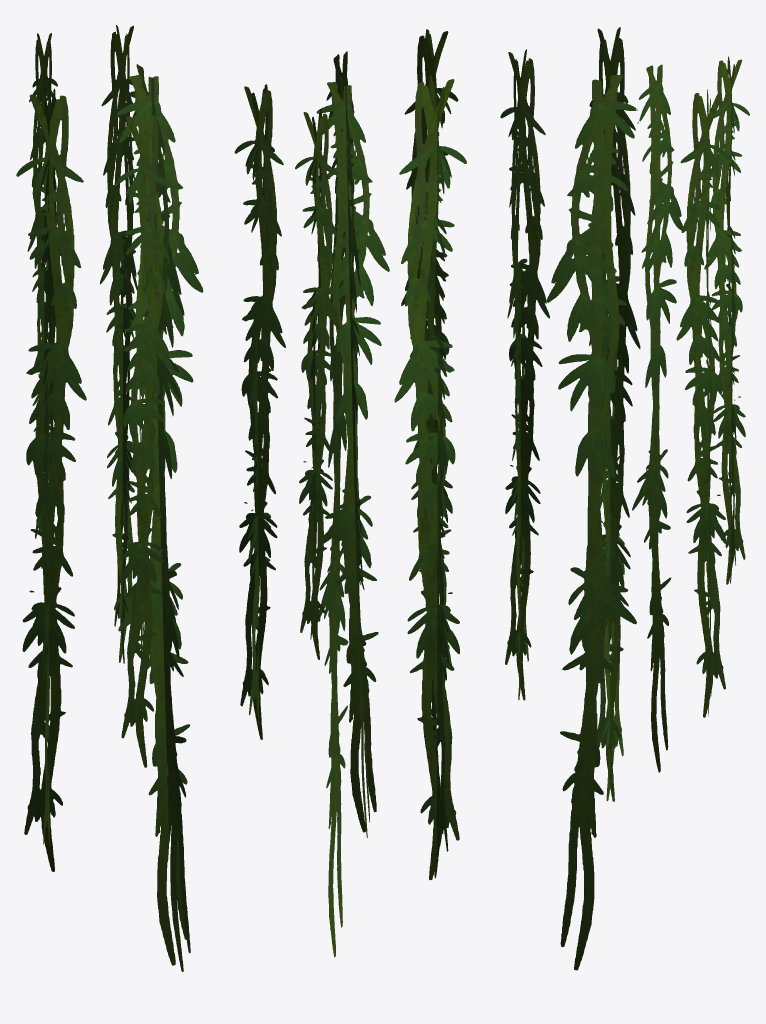
File: Vine_B.fbx
The picture shows the model from 3 angles, left to right: view 1: azimuth 30°, elevation 25°; view 2: azimuth 150°, elevation 25°; view 3: azimuth 270°, elevation 25°; orthographic projection. The views are drawn at different scales.
Parts seen in each view (by area): view 1: Vine_B_LOD0; view 2: Vine_B_LOD0; view 3: Vine_B_LOD0.
Boxes of the visible parts, left/top/right/bottom form: Vine_B_LOD0: left=16, top=25, right=203, bottom=971; Vine_B_LOD0: left=234, top=29, right=466, bottom=957; Vine_B_LOD0: left=500, top=27, right=749, bottom=970.
Size of what is drawn, in the model's own units: 0.8687 by 4.5 by 1.13.
1 material, 1 textured.
